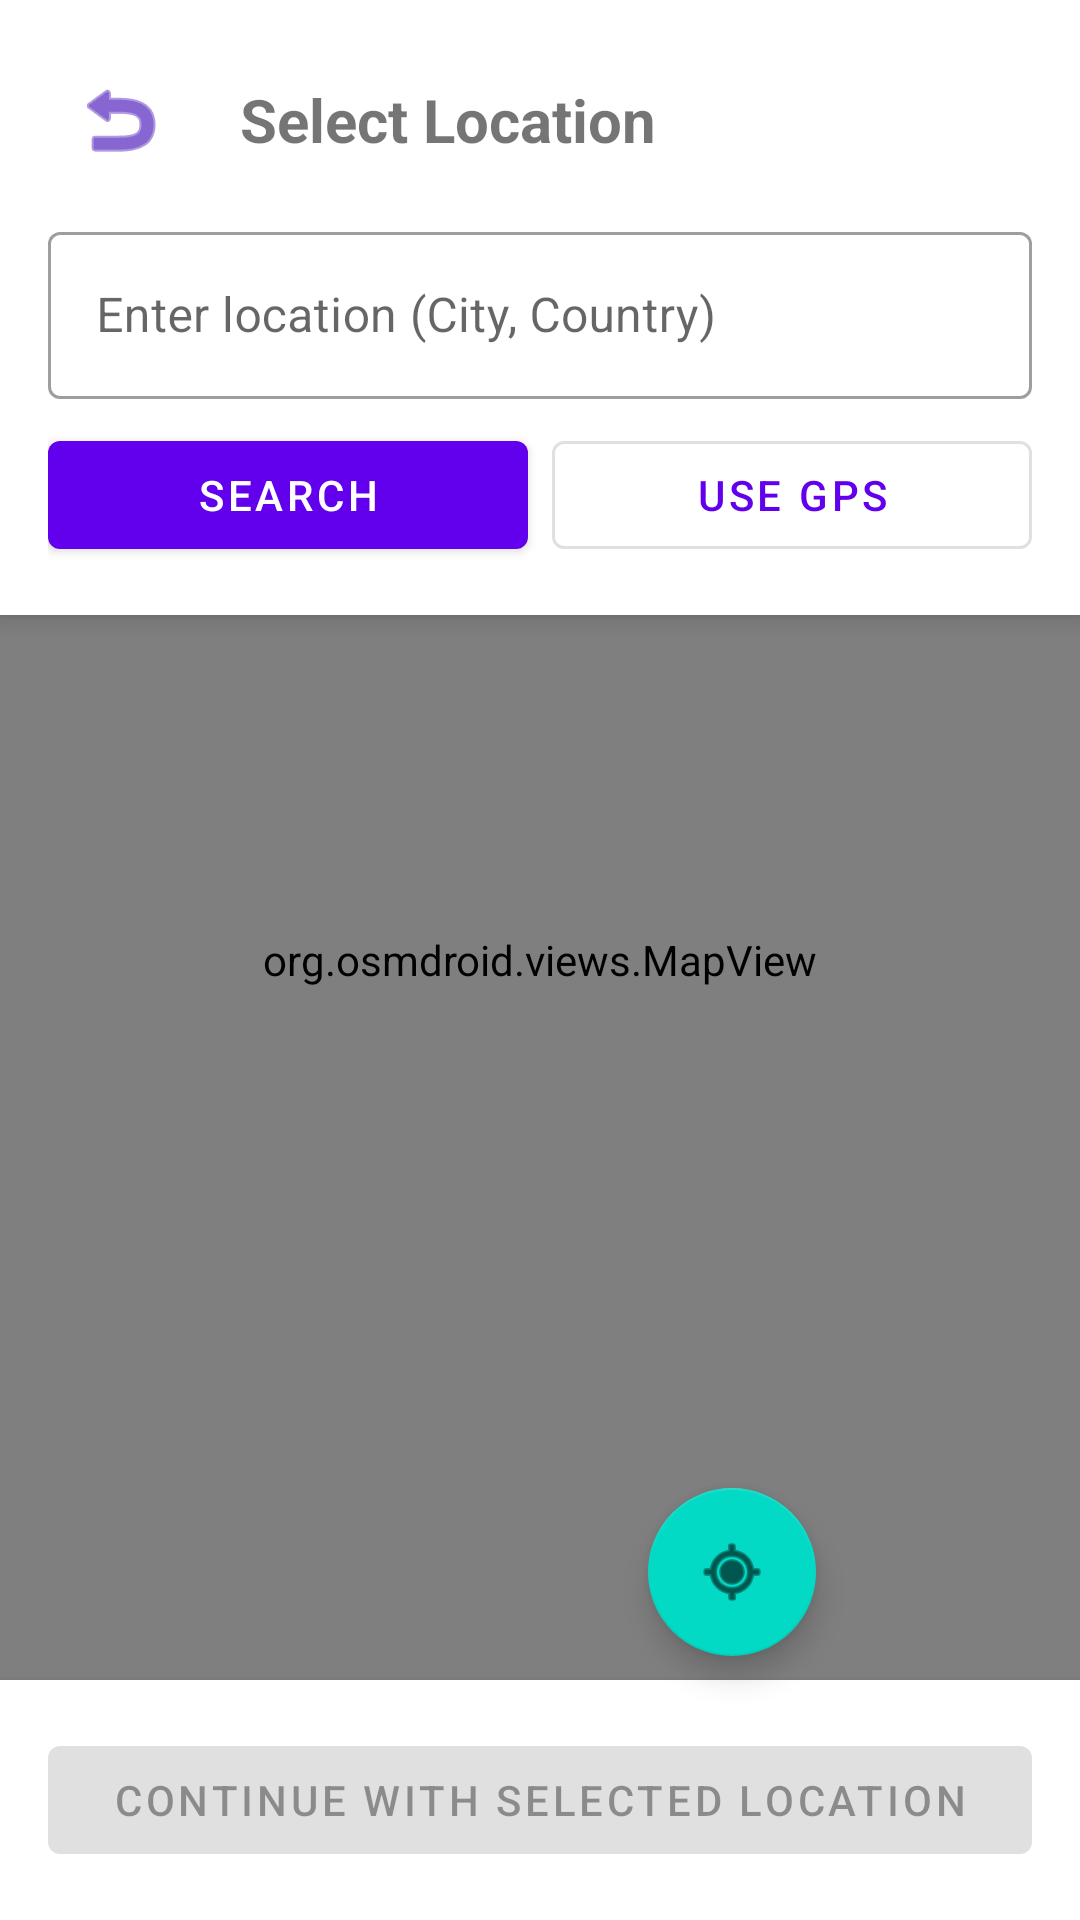

Where icons sit on this 1080w x 1920h app screen, as (x1, y1, x2, y2):
Back: (87, 89, 156, 152)
mylocation: (648, 1488, 816, 1656)
